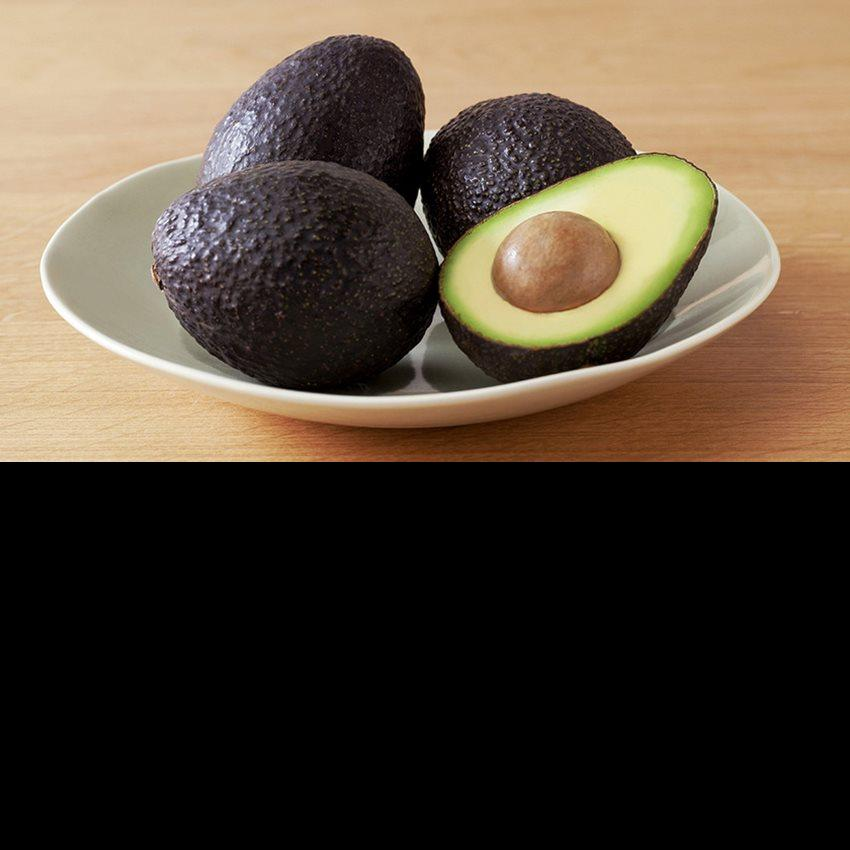ripe: (151, 161, 440, 388), (196, 34, 426, 208), (422, 93, 638, 260)
